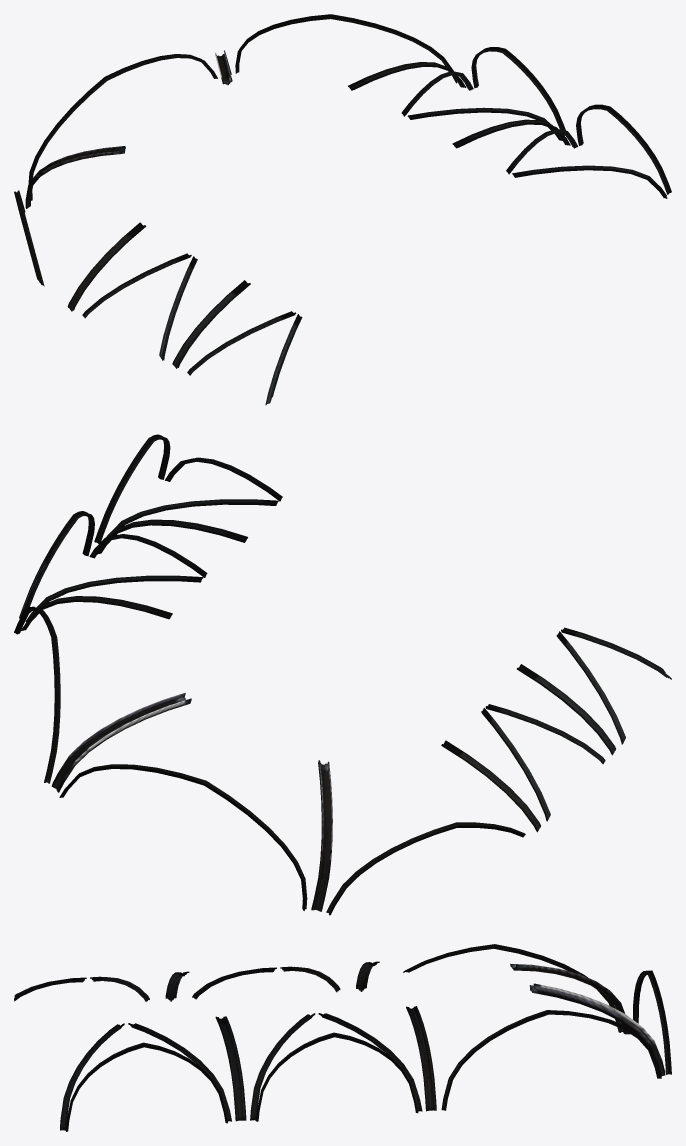
Rendered from RoofDetail.obj.
3 views of the same model, one above another, from view 1: azimuth 30°, elevation 25°; view 2: azimuth 150°, elevation 25°; view 3: azimuth 270°, elevation 25° (orthographic). The views are drawn at different scales.
Visible parts, largest first — view 1: Circle.055_0; view 2: Circle.055_0; view 3: Circle.055_0.
Part boxes in pixels (<box>): Circle.055_0: <box>14,14,671,405</box>; Circle.055_0: <box>14,434,671,915</box>; Circle.055_0: <box>14,944,671,1131</box>.
Size of the model in its own units: 22.24 by 7.67 by 23.8.
